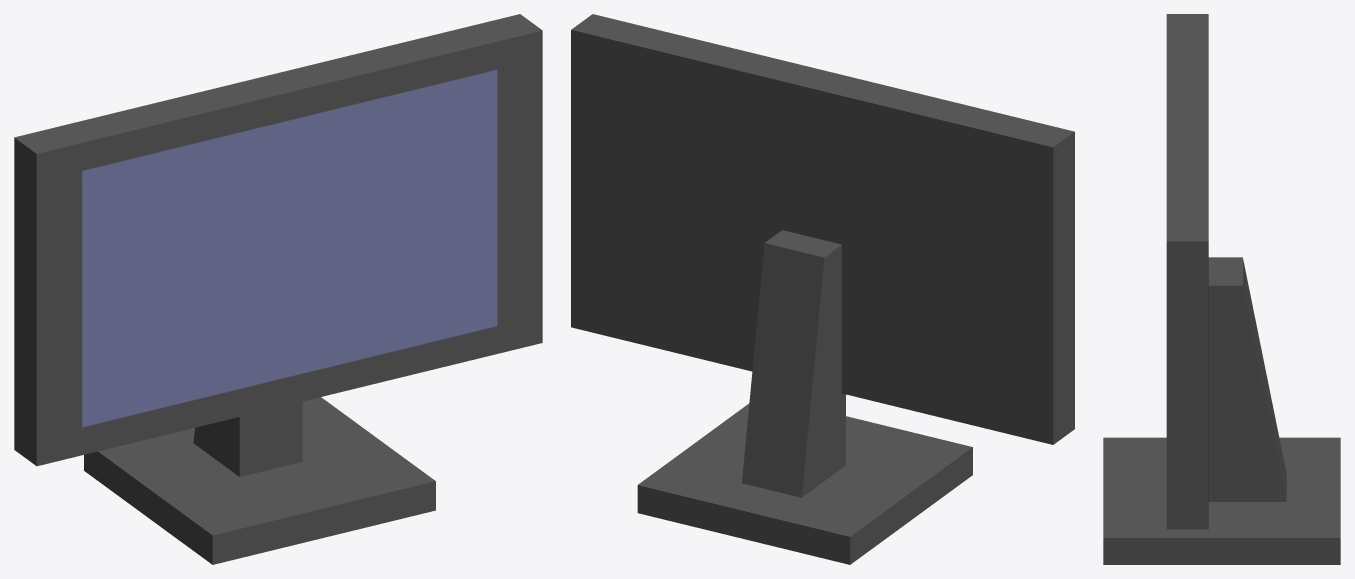
The model's file is ScreenPiece.fbx.
The picture shows the model from 3 angles, left to right: view 1: azimuth 30°, elevation 25°; view 2: azimuth 150°, elevation 25°; view 3: azimuth 270°, elevation 25°; orthographic projection. The views are drawn at different scales.
Parts seen in each view (by area): view 1: Cube.005; view 2: Cube.005; view 3: Cube.005.
Boxes of the visible parts, x1,y1,x2,y2 form: Cube.005: (14, 14, 542, 564); Cube.005: (571, 14, 1074, 564); Cube.005: (1103, 14, 1340, 564).
Bounding box in the file's own units: 239 × 190 × 105.
